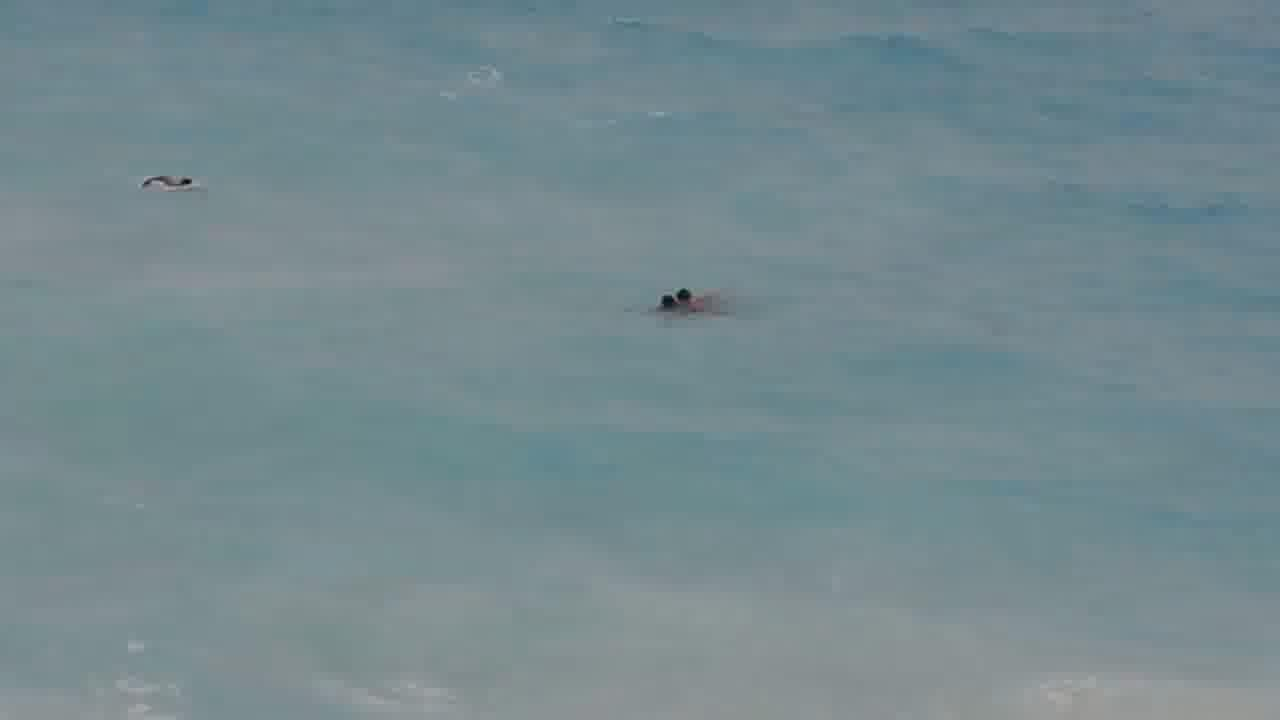human: (652, 277, 727, 323), (155, 158, 213, 216)
